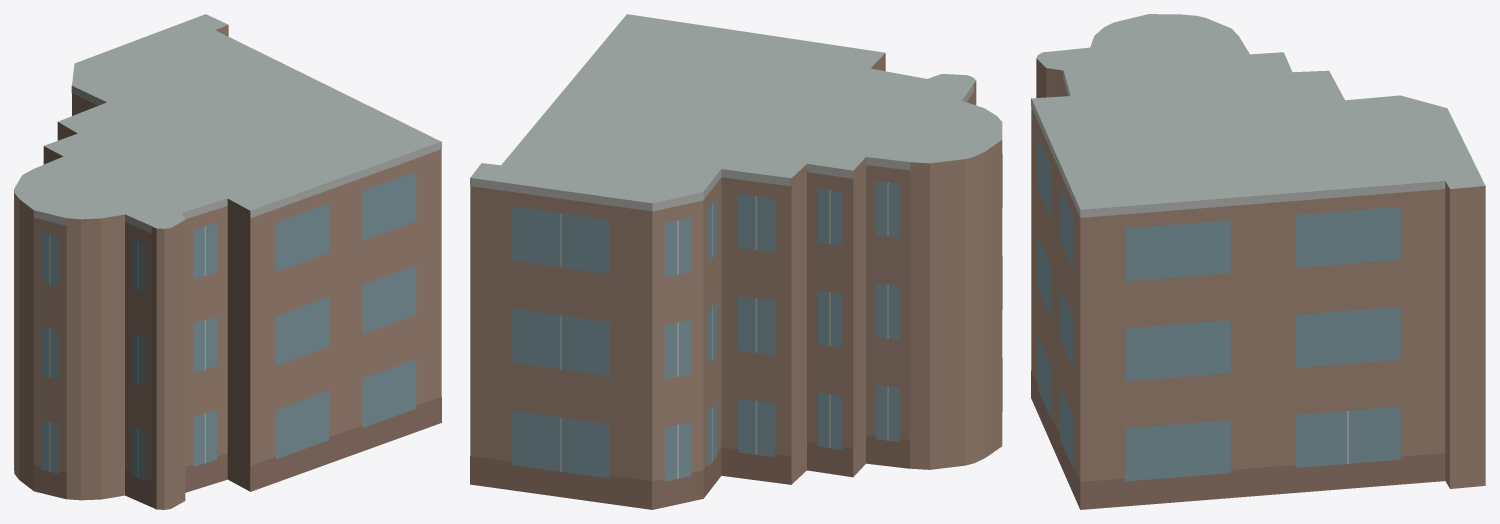
File: survey-upis-32472233.glb
3 views of the same model, side by side, from view 1: azimuth 30°, elevation 25°; view 2: azimuth 150°, elevation 25°; view 3: azimuth 270°, elevation 25° (orthographic). The views are drawn at different scales.
Visible parts, largest first — view 1: survey-upis-32472233.tmp; view 2: survey-upis-32472233.tmp; view 3: survey-upis-32472233.tmp.
Part boxes in pixels (x1=…): survey-upis-32472233.tmp: x1=14, y1=14, x2=441, y2=509; survey-upis-32472233.tmp: x1=470, y1=14, x2=1002, y2=509; survey-upis-32472233.tmp: x1=1031, y1=14, x2=1485, y2=509.
Bounding box in the file's own units: 12.83 × 9.15 × 12.57.
